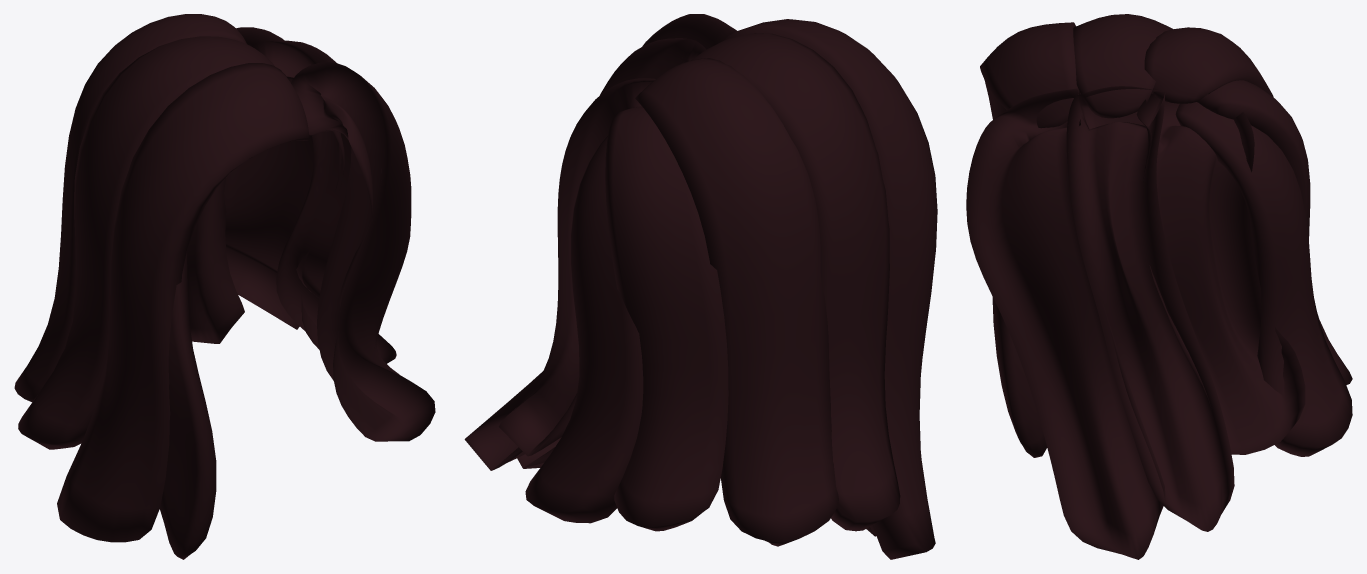
The picture shows the model from 3 angles, left to right: view 1: azimuth 30°, elevation 25°; view 2: azimuth 150°, elevation 25°; view 3: azimuth 270°, elevation 25°; orthographic projection. The views are drawn at different scales.
Visible parts, largest first — view 1: 2; view 2: 2; view 3: 2.
Boxes of the visible parts, x1,y1,x2,y2 form: 2: (14, 14, 435, 559); 2: (464, 14, 937, 559); 2: (966, 14, 1352, 559).
Bounding box in the file's own units: 7163 × 8346 × 6279.
